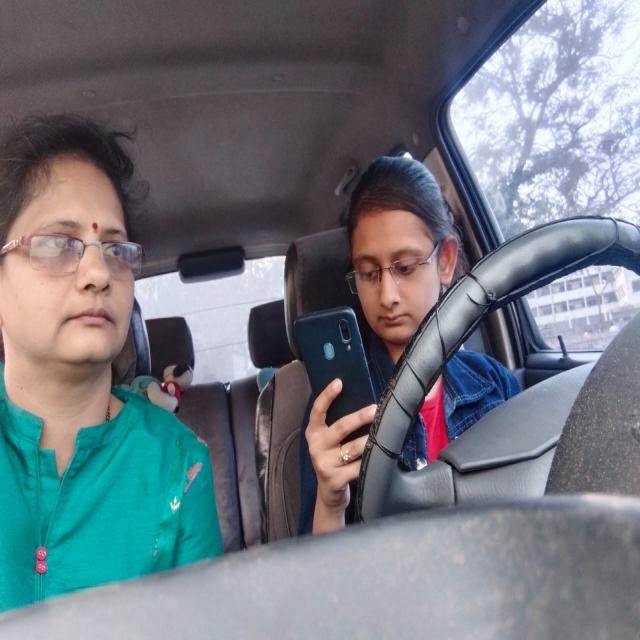mobile: (294, 315, 373, 421)
person: (4, 131, 141, 367), (350, 177, 449, 326)
